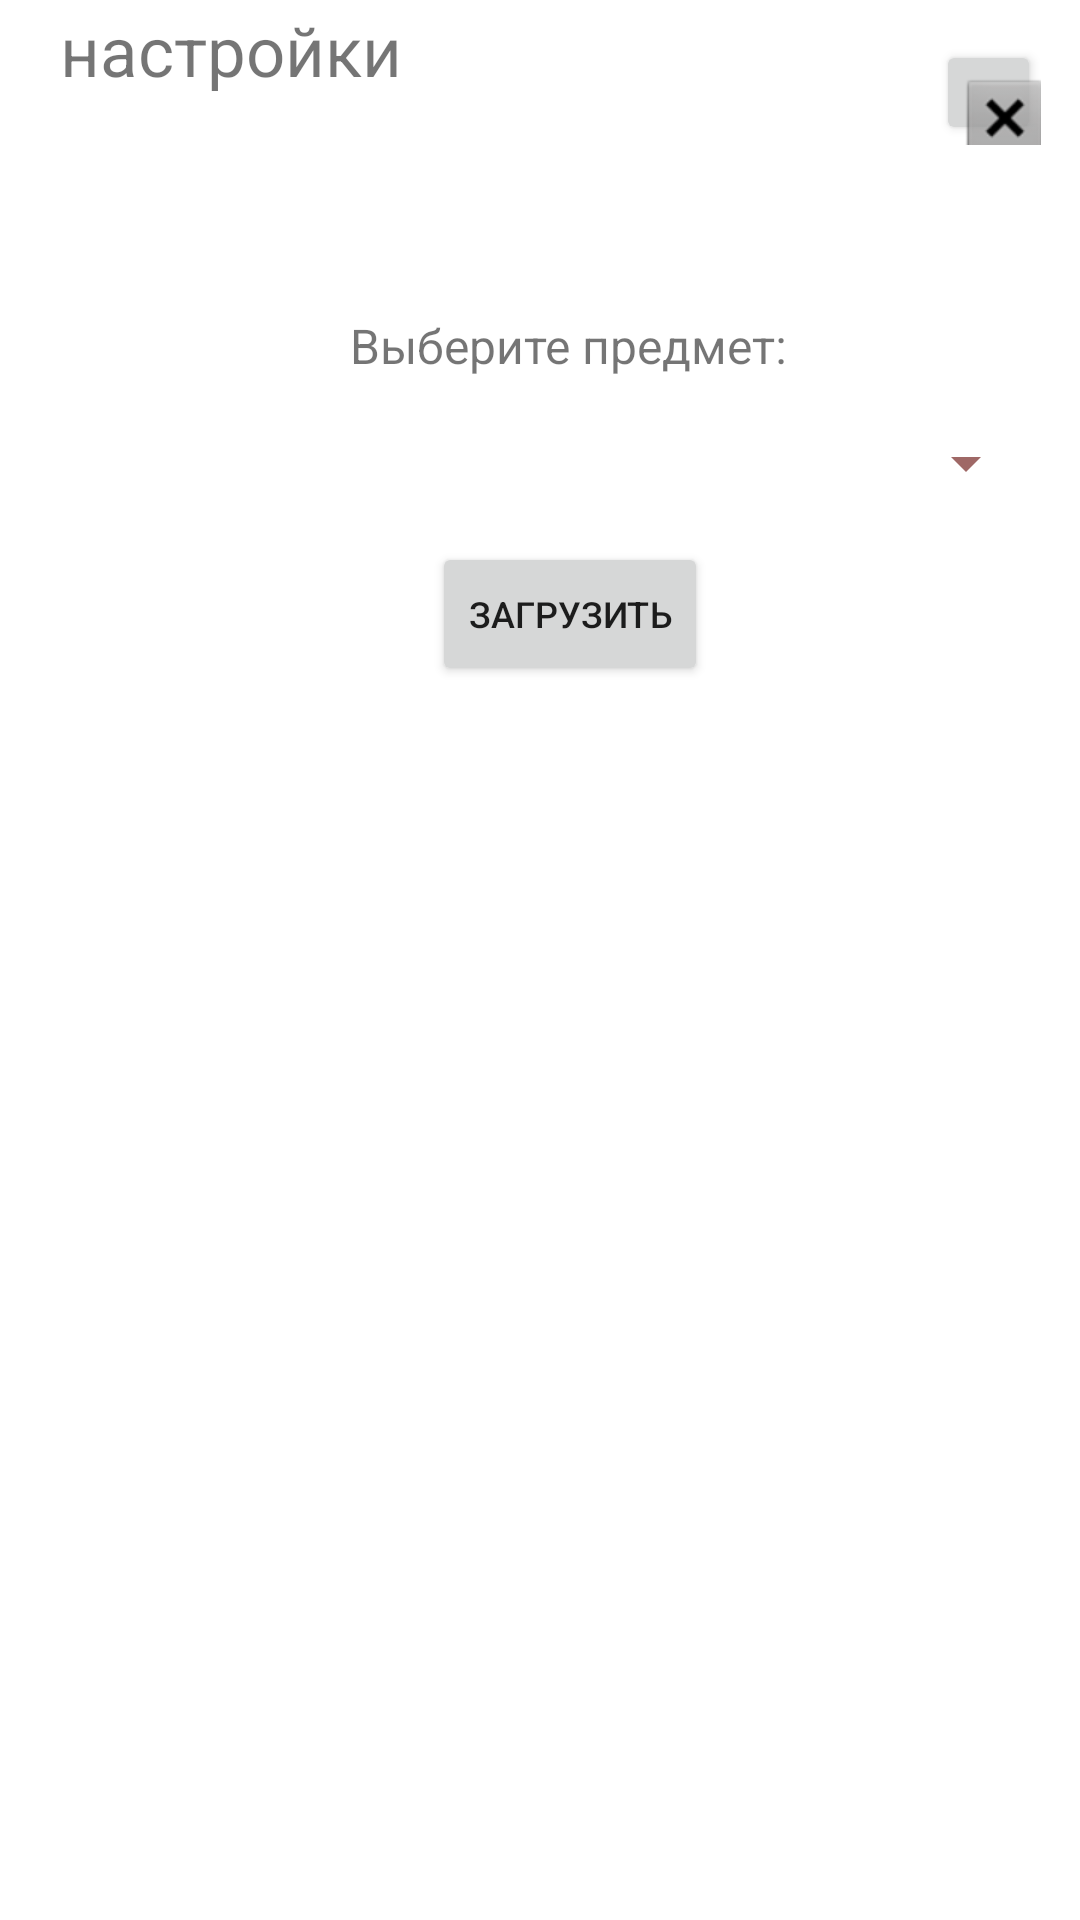

Locate icon controls on the screen. Image size 1080w x 1920h, boxes as (x1, y1, x2, y2).
close clear cancel: (948, 58, 1041, 145)
